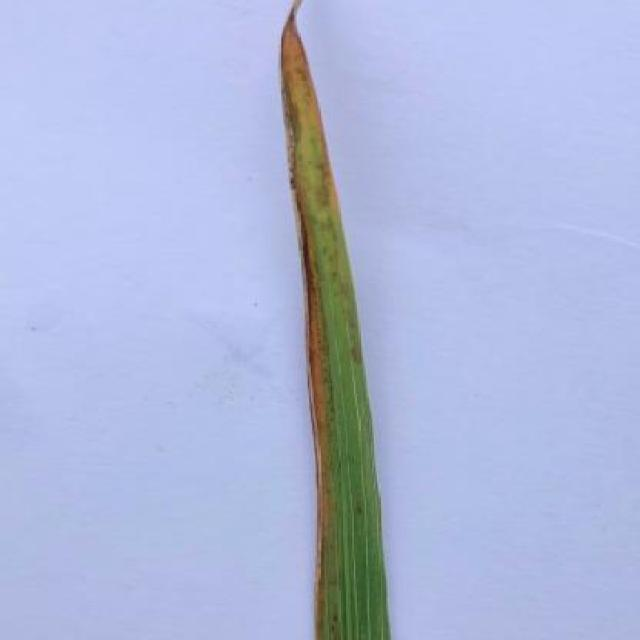Rice False Smut: (269, 1, 398, 640)
